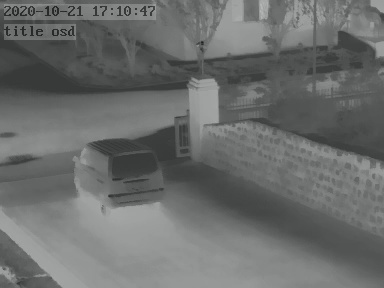vehicle: (67, 137, 167, 210)
